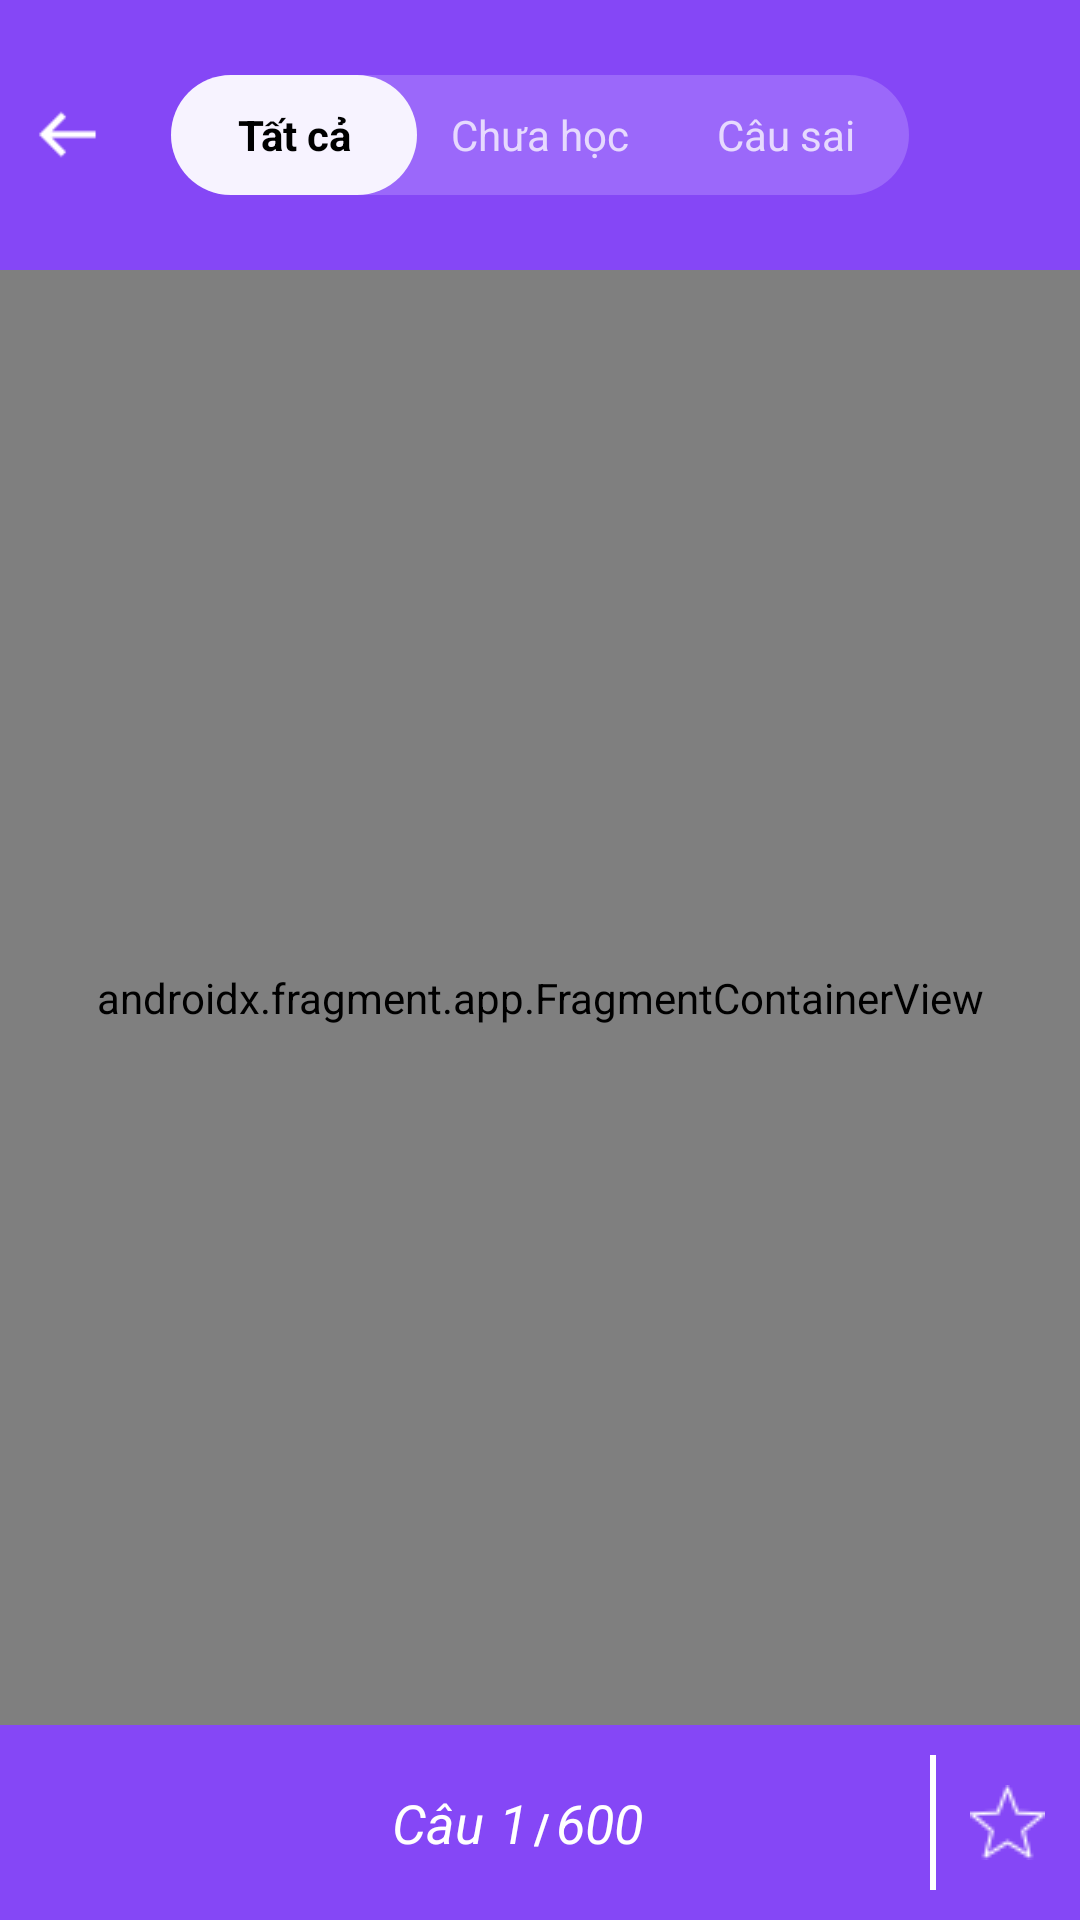

Named icons in this screenshot (1080×1920) and their centers, (x,y):
back: (67,134)
star: (1007,1822)
